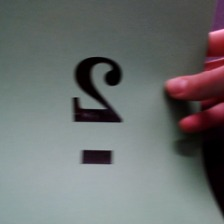green2: (60, 51, 131, 171)
